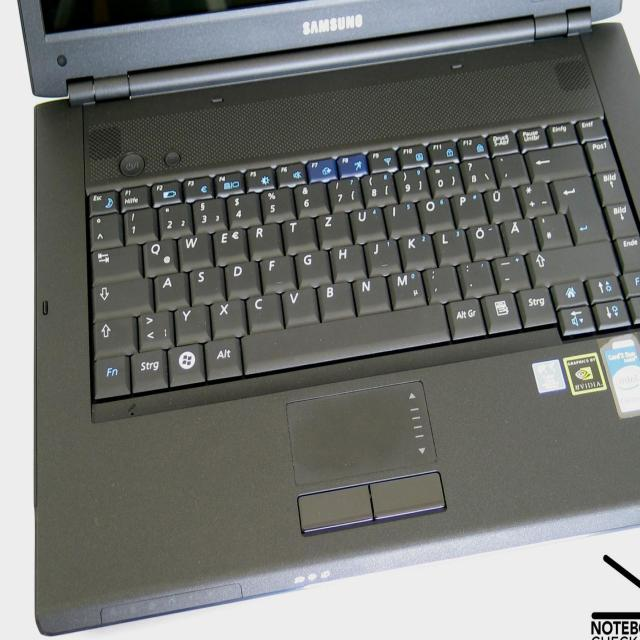0: (426, 159, 461, 194)
1: (123, 205, 154, 242)
2: (156, 200, 190, 235)
3: (190, 195, 224, 230)
4: (225, 189, 258, 225)
5: (258, 185, 292, 220)
6: (292, 179, 326, 215)
7: (327, 175, 361, 210)
8: (360, 169, 394, 205)
9: (394, 164, 428, 199)
a: (153, 270, 187, 307)
accent: (491, 150, 526, 185)
ae: (500, 215, 536, 252)
alt-left: (203, 335, 242, 378)
altgr-right: (444, 296, 485, 337)
b: (316, 279, 354, 318)
c: (244, 291, 282, 330)
caret: (87, 210, 119, 246)
comma: (421, 263, 458, 300)
d: (222, 258, 258, 295)
del: (523, 143, 586, 179)
e: (211, 226, 245, 262)
enter: (548, 174, 607, 243)
f: (259, 253, 294, 291)
g: (293, 247, 329, 284)
h: (328, 241, 364, 279)
hash: (532, 211, 570, 247)
i: (382, 199, 418, 235)
j: (363, 236, 399, 274)
k: (398, 231, 434, 269)
keyboard: (75, 113, 640, 427)
l: (432, 226, 468, 263)
less: (136, 307, 171, 348)
m: (387, 268, 424, 307)
minus: (491, 253, 529, 290)
n: (351, 273, 389, 313)
o: (416, 195, 452, 230)
oe: (465, 221, 504, 258)
p: (450, 189, 486, 225)
plus: (515, 179, 552, 215)
point: (456, 258, 494, 295)
q: (140, 237, 177, 273)
r: (246, 220, 281, 257)
s: (188, 264, 222, 303)
shift-left: (90, 314, 135, 354)
shift-lock: (90, 275, 150, 314)
shift-right: (524, 242, 617, 284)
space: (238, 300, 449, 372)
ss: (459, 153, 493, 189)
strg-left: (129, 347, 167, 391)
strg-right: (515, 284, 556, 326)
t: (280, 215, 314, 251)
tab: (90, 242, 138, 278)
u: (348, 204, 384, 240)
ue: (482, 184, 519, 219)
v: (280, 285, 317, 325)
w: (176, 231, 210, 268)
x: (209, 297, 244, 336)
y: (173, 302, 209, 342)
z: (314, 209, 349, 245)
